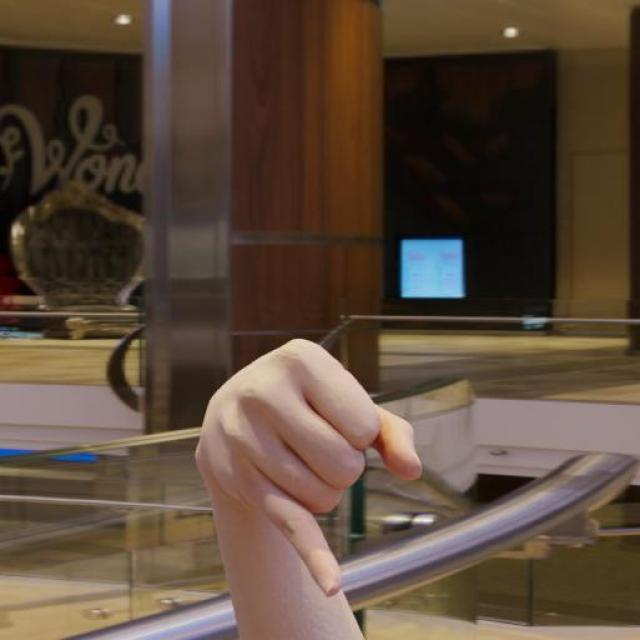J: (200, 336, 430, 604)
